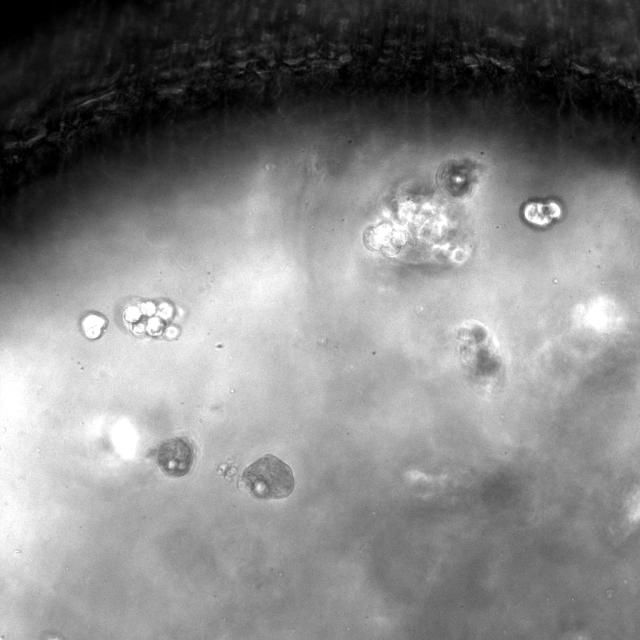organoid: (362, 157, 482, 266), (457, 321, 503, 386), (238, 454, 294, 499), (122, 299, 181, 339), (157, 437, 193, 477), (519, 198, 564, 229), (79, 311, 108, 339), (217, 460, 238, 481)
